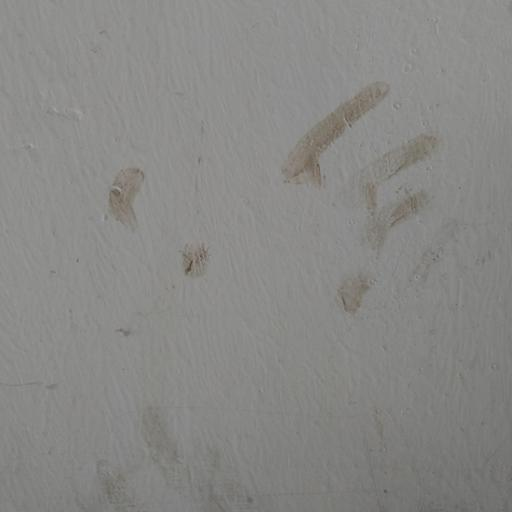stain: (271, 69, 512, 331), (55, 380, 272, 512), (351, 396, 512, 512), (105, 143, 163, 239), (171, 227, 231, 290), (96, 306, 149, 351)
